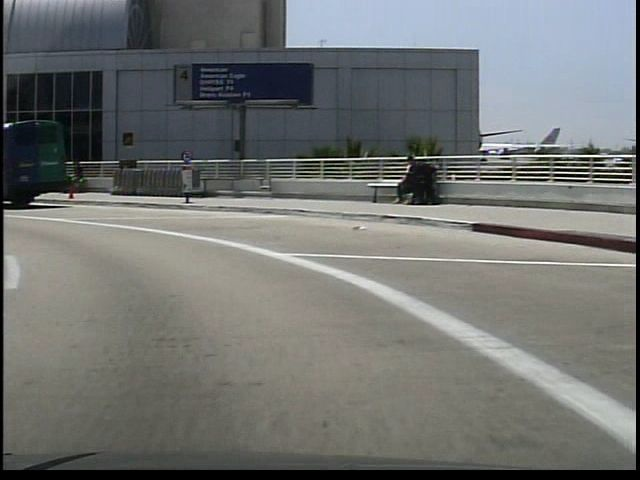person: (67, 157, 87, 197)
